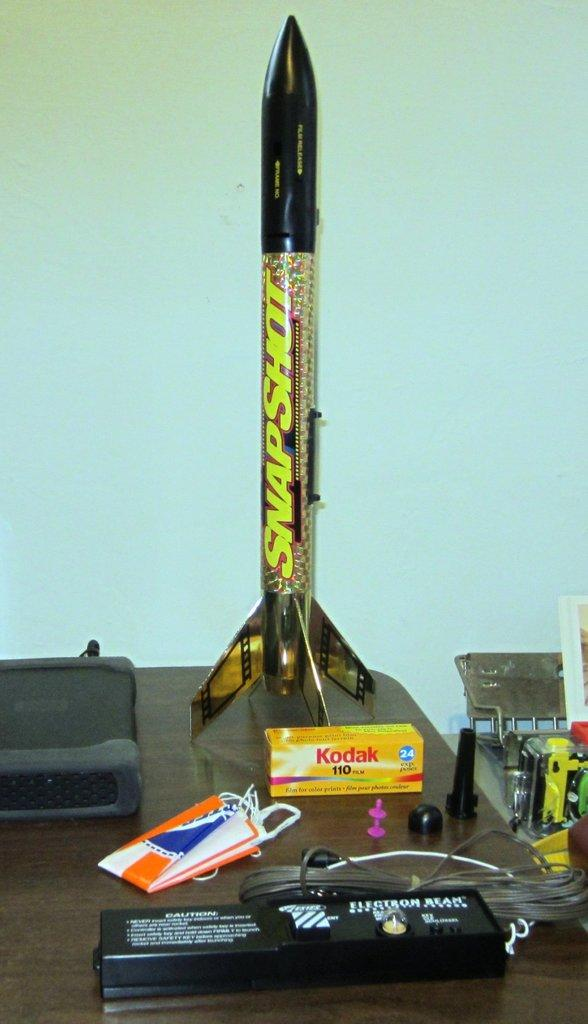Missile: (170, 2, 412, 897)
